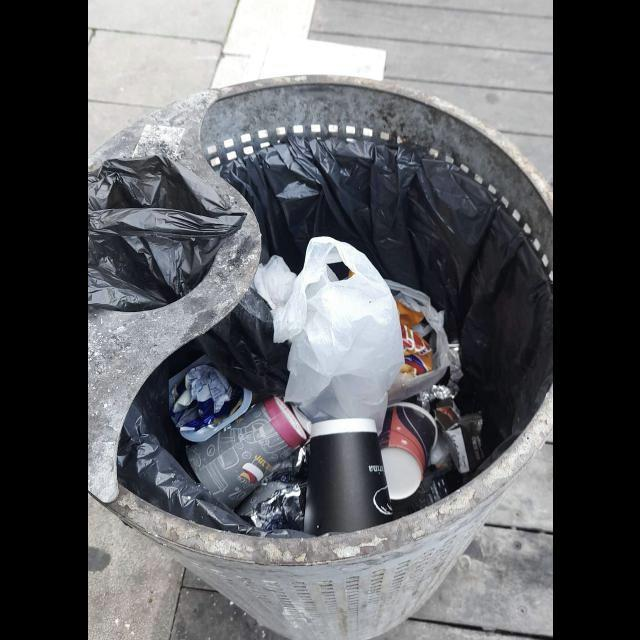cardboard: (185, 395, 307, 511), (310, 418, 394, 538), (380, 401, 437, 502), (436, 405, 471, 473)
paper: (173, 363, 232, 411)
plastic_bag: (253, 237, 405, 437)
plastic_bottle: (384, 279, 464, 399)
